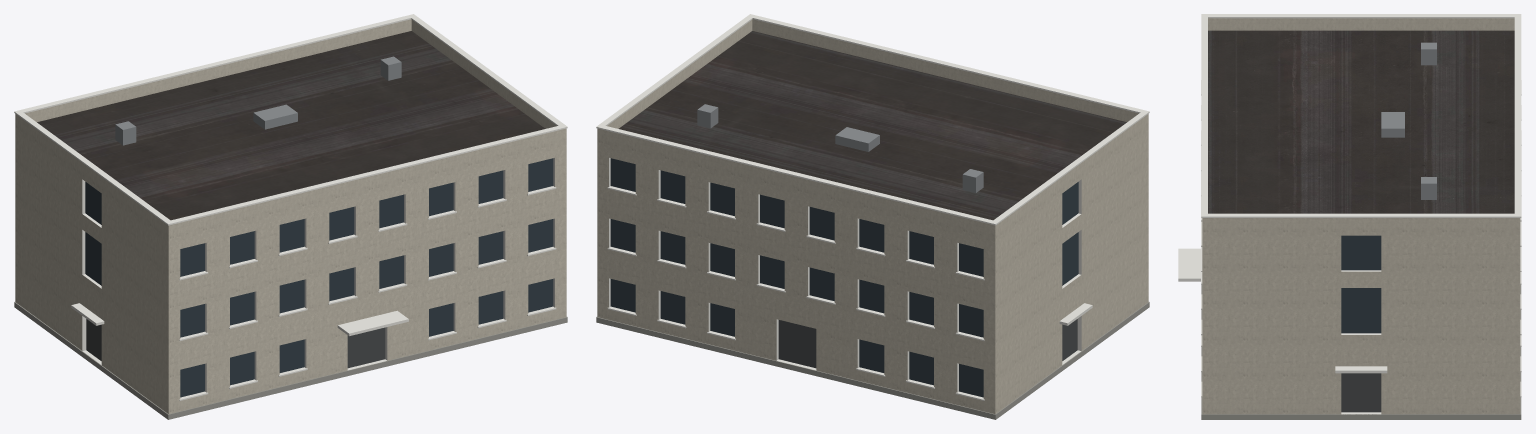
The model's file is a1-apartment.glb.
3 renders of one model, left to right at view 1: azimuth 30°, elevation 25°; view 2: azimuth 150°, elevation 25°; view 3: azimuth 270°, elevation 25°, orthographic. The views are drawn at different scales.
Parts seen in each view (by area): view 1: a1-apartment; view 2: a1-apartment; view 3: a1-apartment.
Part boxes in pixels (x1,y1,x2,y2): a1-apartment: (14, 14, 567, 419); a1-apartment: (596, 14, 1149, 419); a1-apartment: (1178, 14, 1521, 419).
Size of the model in its own units: 25 by 11.4 by 17.26.
7 materials, 2 textured.
